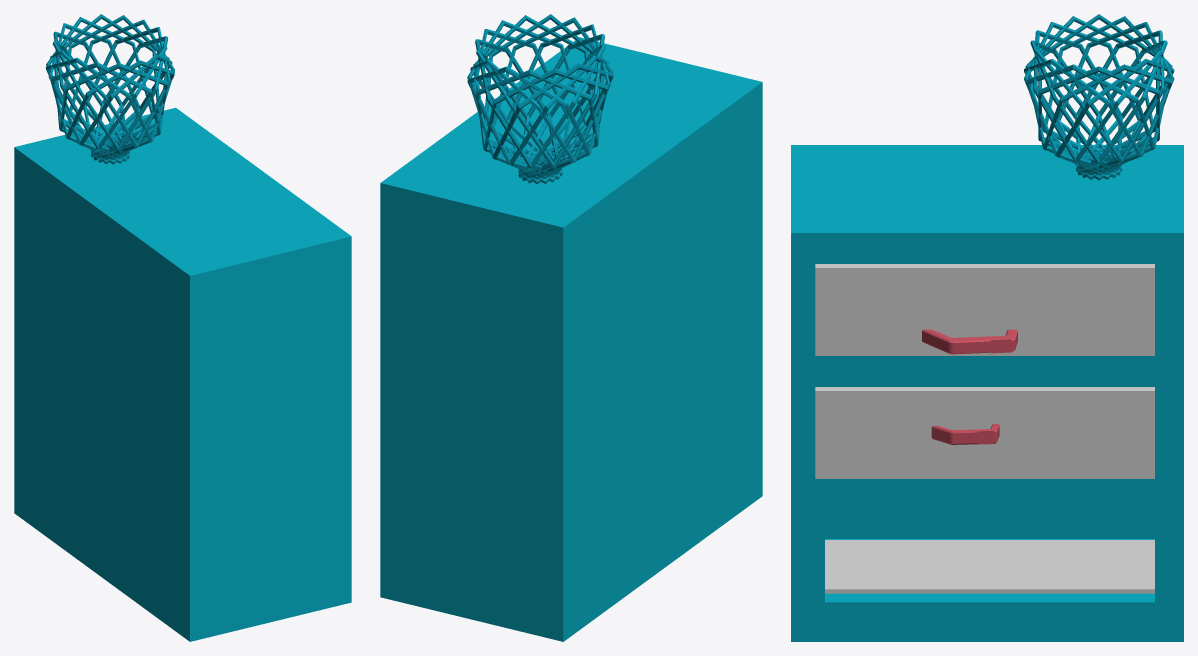
The model's file is Project 149.glb.
3 views of the same model, side by side, from view 1: azimuth 30°, elevation 25°; view 2: azimuth 150°, elevation 25°; view 3: azimuth 270°, elevation 25° (orthographic). The views are drawn at different scales.
Parts seen in each view (by area): view 1: Mesh_Mesh_head_geo.001_lambert2SG.001; view 2: Mesh_Mesh_head_geo.001_lambert2SG.001; view 3: Mesh_Mesh_head_geo.001_lambert2SG.001.
Part boxes in pixels (x1=…): Mesh_Mesh_head_geo.001_lambert2SG.001: x1=14, y1=14, x2=351, y2=641; Mesh_Mesh_head_geo.001_lambert2SG.001: x1=380, y1=14, x2=762, y2=641; Mesh_Mesh_head_geo.001_lambert2SG.001: x1=791, y1=14, x2=1183, y2=641.
Bounding box in the file's own units: 51 × 124 × 81.
